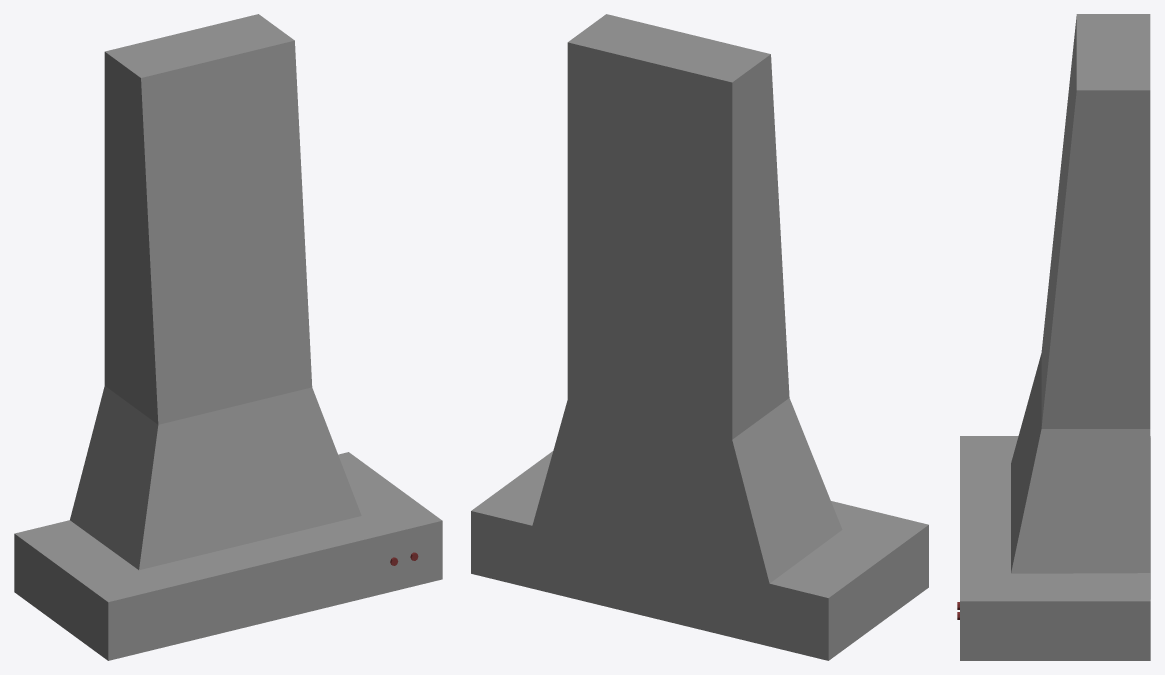
File: Kitchen_Hood_2.fbx
The picture shows the model from 3 angles, left to right: view 1: azimuth 30°, elevation 25°; view 2: azimuth 150°, elevation 25°; view 3: azimuth 270°, elevation 25°; orthographic projection. The views are drawn at different scales.
Visible parts, largest first — view 1: Kitchen_Hood_2; view 2: Kitchen_Hood_2; view 3: Kitchen_Hood_2.
Boxes of the visible parts, x1,y1,x2,y2 form: Kitchen_Hood_2: (14,14,442,660); Kitchen_Hood_2: (471,14,928,660); Kitchen_Hood_2: (957,14,1150,660).
Bounding box in the file's own units: 105 × 51.99 × 156.
